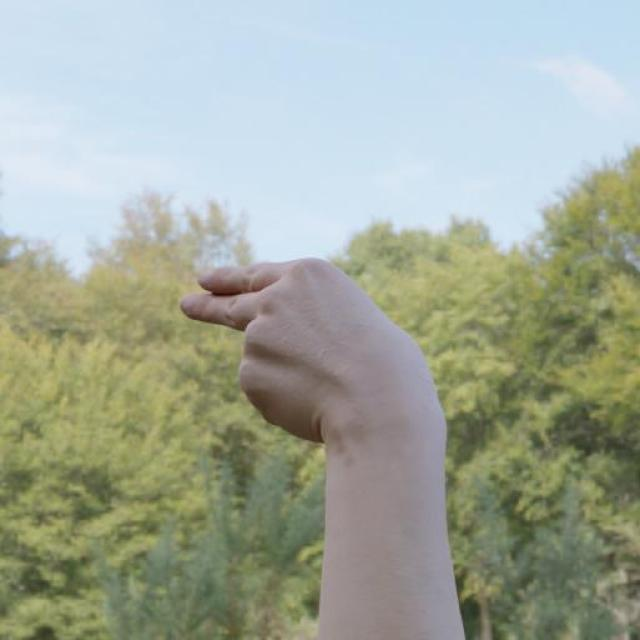H: (175, 252, 446, 442)
